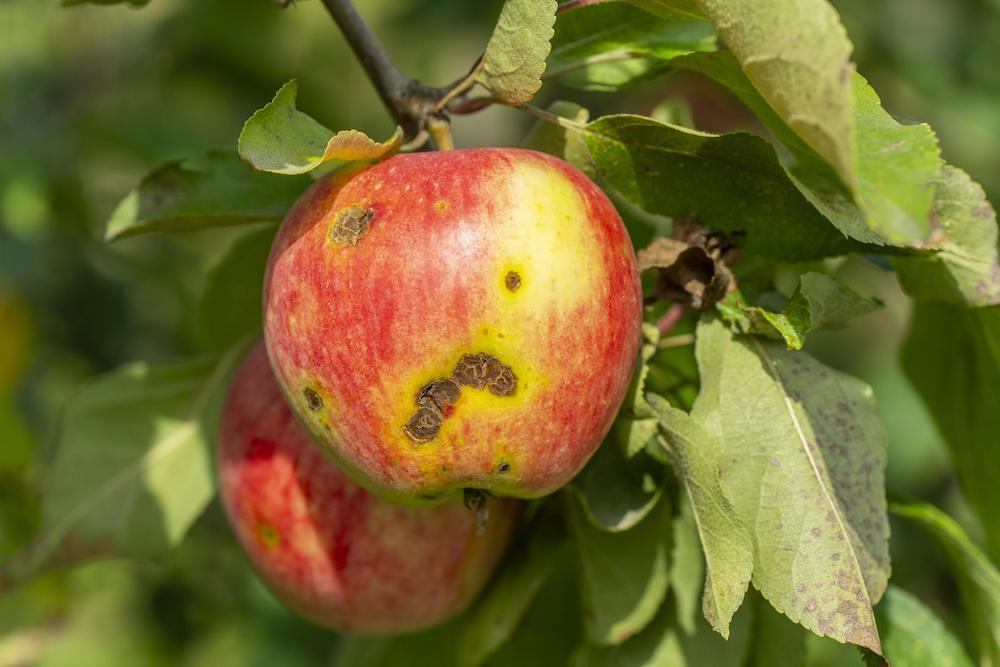apple: (253, 150, 655, 509), (208, 302, 547, 630)
